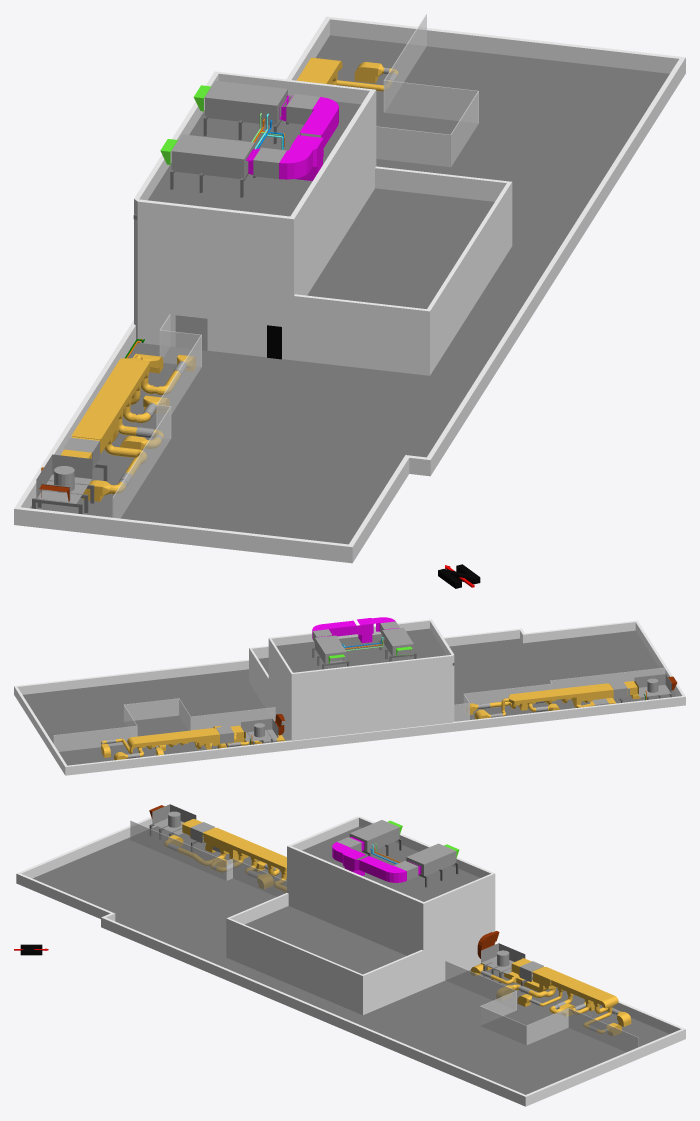
Rendered from 200 water Roof Only.glb.
The picture shows the model from 3 angles, top to bottom: view 1: azimuth 30°, elevation 25°; view 2: azimuth 150°, elevation 25°; view 3: azimuth 270°, elevation 25°; orthographic projection. The views are drawn at different scales.
Parts seen in each view (by area): view 1: empty_6, empty_7, empty_8, empty_27, empty_19, empty_9, empty_10, empty_20; view 2: empty_6, empty_7, empty_8, empty_27, empty_9, empty_19, empty_10; view 3: empty_6, empty_7, empty_8, empty_27, empty_9, empty_19, empty_10.
Boxes of the visible parts, x1=… form: empty_6: x1=30, y1=35, x2=669, y2=544; empty_7: x1=14, y1=16, x2=685, y2=563; empty_8: x1=112, y1=14, x2=478, y2=518; empty_27: x1=112, y1=14, x2=478, y2=517; empty_19: x1=36, y1=67, x2=396, y2=503; empty_9: x1=61, y1=57, x2=398, y2=501; empty_10: x1=246, y1=95, x2=338, y2=180; empty_20: x1=175, y1=315, x2=207, y2=350; empty_6: x1=23, y1=628, x2=677, y2=765; empty_7: x1=14, y1=619, x2=685, y2=775; empty_8: x1=54, y1=668, x2=664, y2=751; empty_27: x1=54, y1=668, x2=664, y2=751; empty_9: x1=101, y1=681, x2=640, y2=760; empty_19: x1=101, y1=621, x2=671, y2=758; empty_10: x1=312, y1=617, x2=398, y2=643; empty_6: x1=33, y1=817, x2=669, y2=1094; empty_7: x1=16, y1=816, x2=685, y2=1106; empty_8: x1=130, y1=821, x2=638, y2=1051; empty_27: x1=130, y1=821, x2=638, y2=1051; empty_9: x1=164, y1=819, x2=631, y2=1036; empty_19: x1=152, y1=804, x2=619, y2=1032; empty_10: x1=332, y1=837, x2=421, y2=882.
Size of the model in its own units: 62.63 by 13.45 by 61.97.
